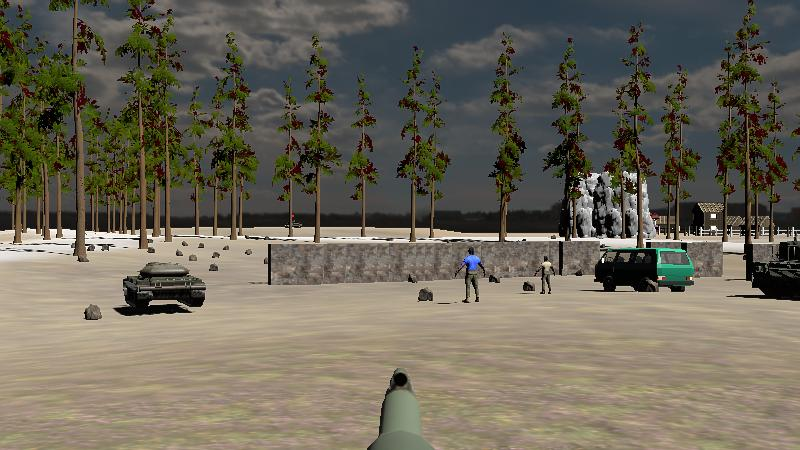Human: (454, 246, 487, 306), (533, 254, 557, 296)
Tank: (121, 258, 209, 314)
car: (591, 245, 697, 295)
